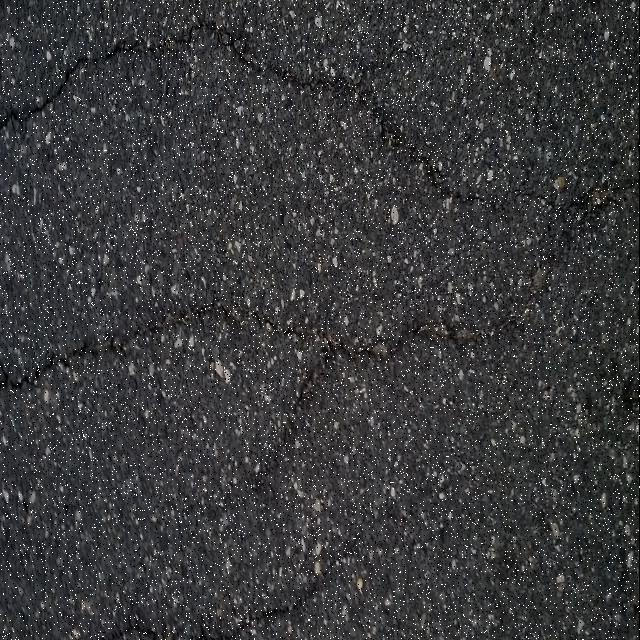Crack: (0, 175, 640, 451), (0, 18, 498, 208), (240, 506, 411, 634)
